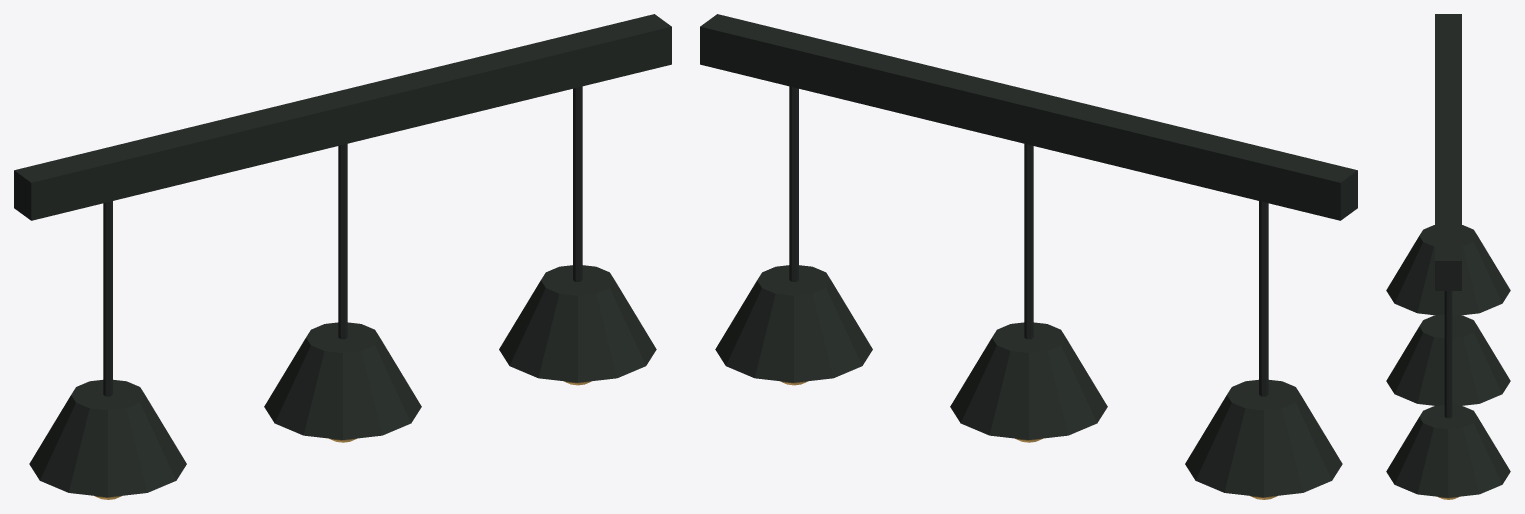
Rendered from gh_pendant_v01.glb.
The picture shows the model from 3 angles, left to right: view 1: azimuth 30°, elevation 25°; view 2: azimuth 150°, elevation 25°; view 3: azimuth 270°, elevation 25°; orthographic projection. The views are drawn at different scales.
Parts seen in each view (by area): view 1: Three suspended warehouse pendants; view 2: Three suspended warehouse pendants; view 3: Three suspended warehouse pendants.
Part boxes in pixels (box(x1,y1,x2,y2)): Three suspended warehouse pendants: box(14, 14, 671, 499); Three suspended warehouse pendants: box(700, 14, 1357, 499); Three suspended warehouse pendants: box(1386, 14, 1510, 499).
Size of the model in its own units: 3 by 1.53 by 0.64.
1 material, 1 textured.
